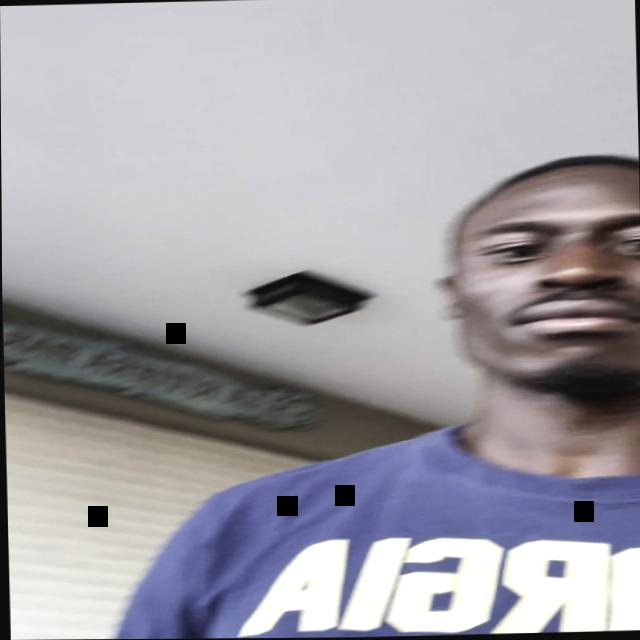NO-Mask: (430, 162, 640, 405)
